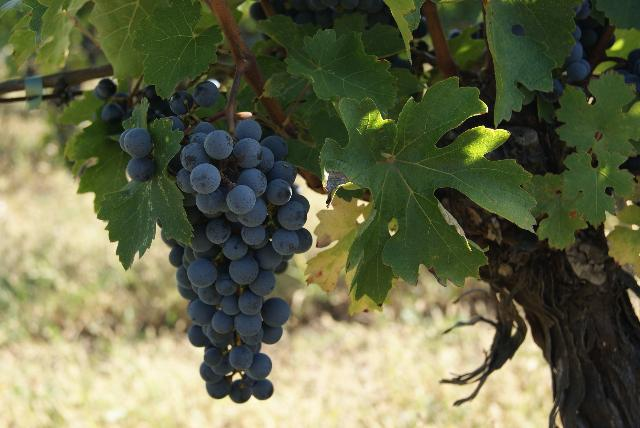grapes: (164, 135, 311, 402)
